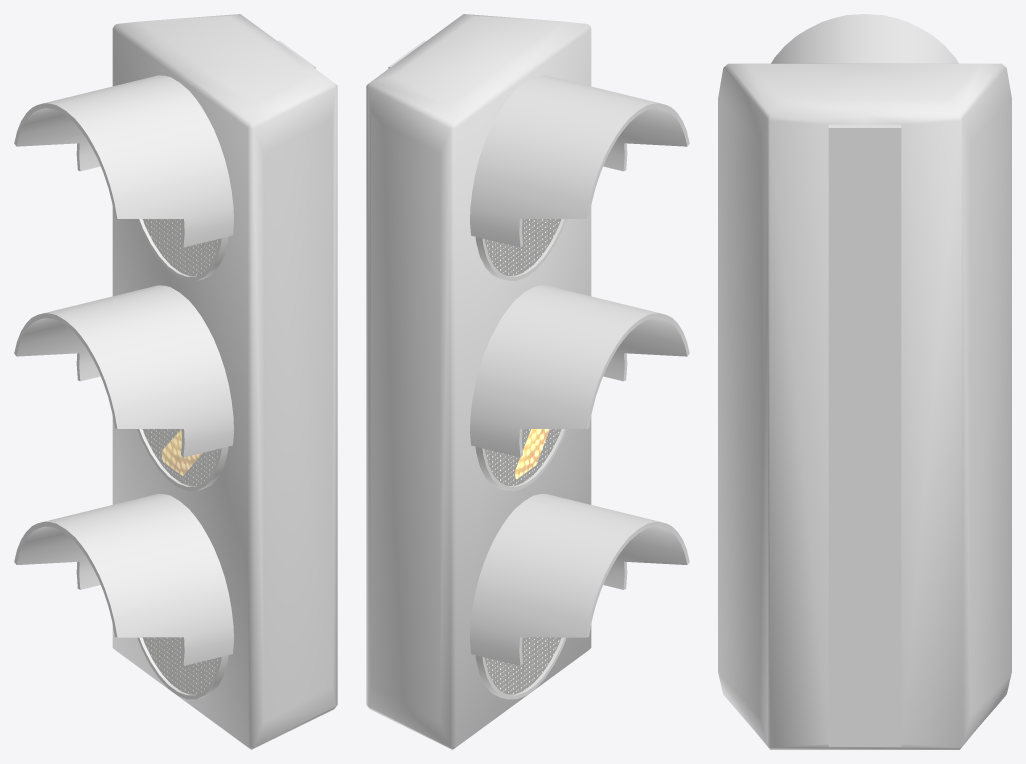
Rendered from 竖排右转灯_YellowLight.glb.
3 views of the same model, side by side, from view 1: azimuth 30°, elevation 25°; view 2: azimuth 150°, elevation 25°; view 3: azimuth 270°, elevation 25° (orthographic).
Parts seen in each view (by area): view 1: 竖排右转灯_YellowLight; view 2: 竖排右转灯_YellowLight; view 3: 竖排右转灯_YellowLight.
Part boxes in pixels (x1=…): 竖排右转灯_YellowLight: x1=14, y1=14, x2=337, y2=749; 竖排右转灯_YellowLight: x1=366, y1=14, x2=689, y2=749; 竖排右转灯_YellowLight: x1=718, y1=14, x2=1011, y2=749.
Bounding box in the file's own units: 0.6001 × 1.58 × 0.65.
Materials: 3 (2 with a texture image).
